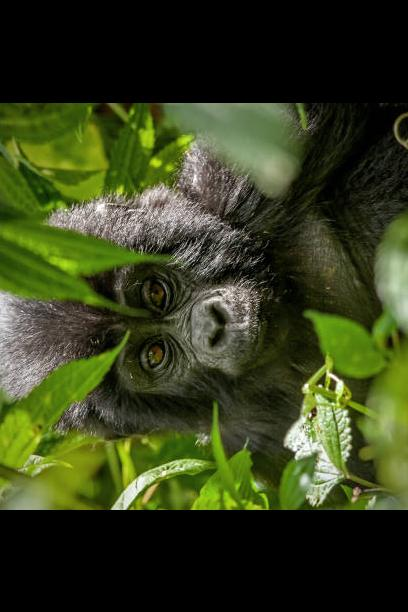goriile_montagne: (0, 107, 408, 451)
